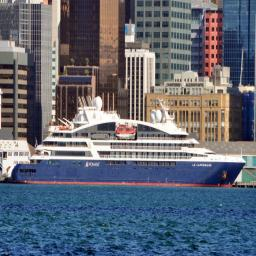cruises: (12, 93, 249, 192)
